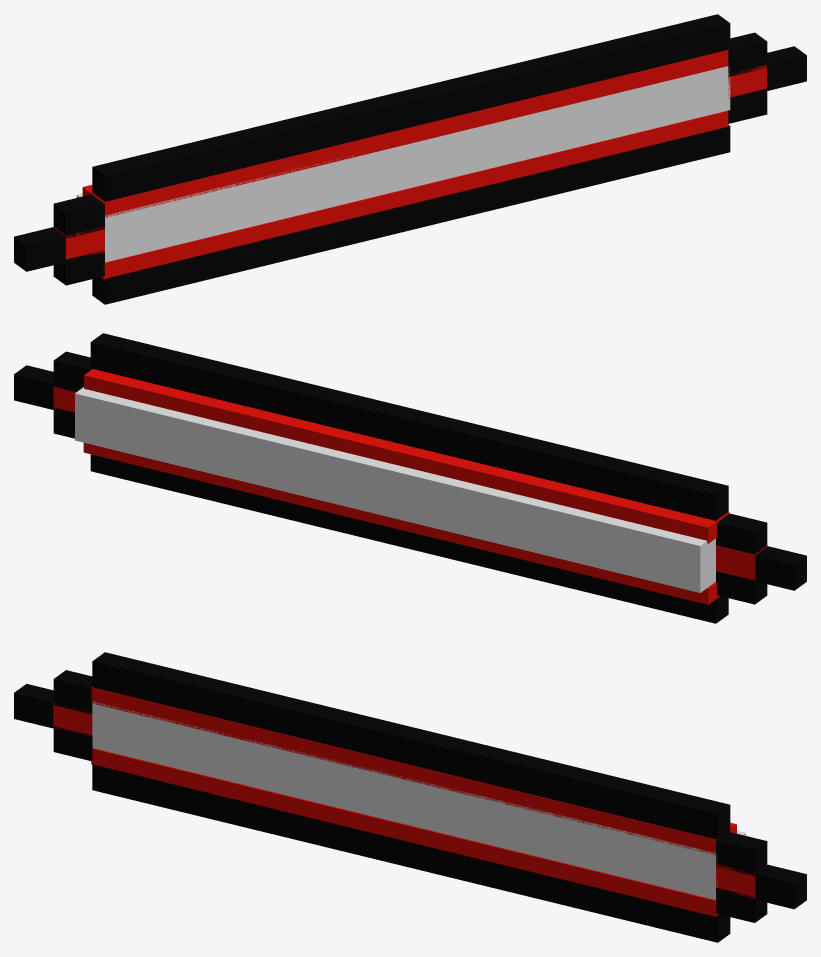
Rendered from Laser.fbx.
The picture shows the model from 3 angles, top to bottom: view 1: azimuth 30°, elevation 25°; view 2: azimuth 150°, elevation 25°; view 3: azimuth 330°, elevation 25°; orthographic projection.
Visible parts, largest first — view 1: Cube.002; view 2: Cube.002; view 3: Cube.002.
Boxes of the visible parts, bbox=[...] form: Cube.002: bbox=[14, 14, 806, 304]; Cube.002: bbox=[14, 333, 806, 623]; Cube.002: bbox=[14, 652, 806, 942].
Bounding box in the file's own units: 250 × 39.38 × 15.63.
